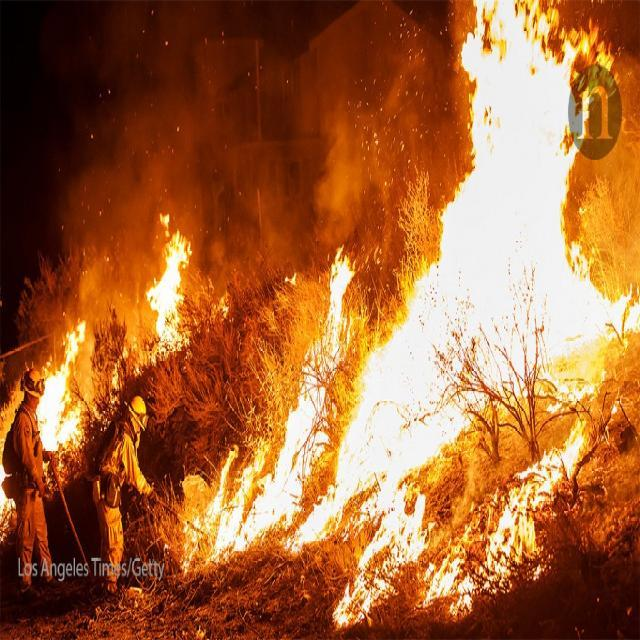Fire: (349, 0, 615, 572), (202, 250, 361, 560), (146, 192, 191, 376), (42, 320, 85, 460)
Smoke: (27, 2, 472, 376)
